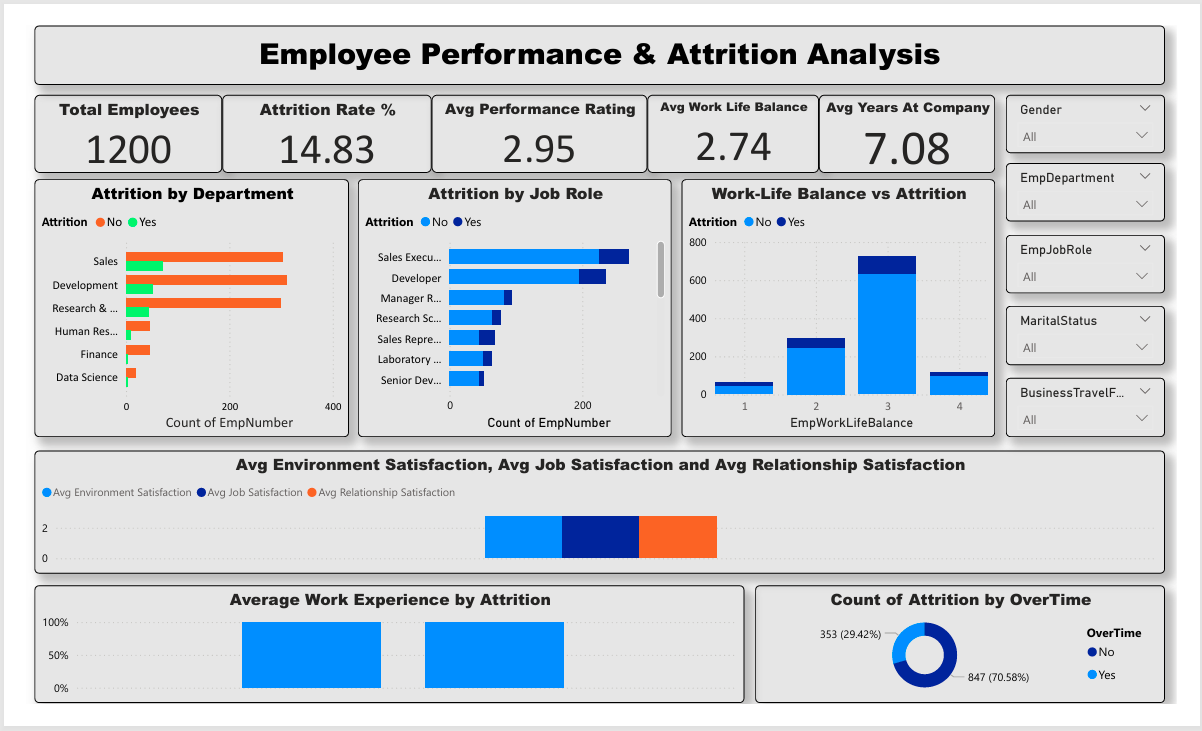

The page's visual inventory and layout, read from the dashboard file:
{"tool":"powerbi","page":{"name":"Page 1","canvas":[1280,755],"ordinal":0},"visuals":[{"type":"card","title":"Total Employees","fields":{"Values":["INX_Future_Inc_Employee_Perform.Total Employees"]},"box":[9,77.1,209.5,87.4],"z":0},{"type":"card","title":"Attrition Rate %","fields":{"Values":["INX_Future_Inc_Employee_Perform.Attrition Rate (%)"]},"box":[218.5,77.1,232.6,87.4],"z":1000},{"type":"card","title":"Avg Performance  Rating","fields":{"Values":["INX_Future_Inc_Employee_Perform.Avg Performance Rating"]},"box":[451.1,77.1,240.3,87.4],"z":2000},{"type":"card","title":"Avg Work Life Balance","fields":{"Values":["INX_Future_Inc_Employee_Perform.Avg Work-Life Balance"]},"box":[691.4,77.1,190.2,87.4],"z":3000},{"type":"card","title":"Avg Years At Company","fields":{"Values":["INX_Future_Inc_Employee_Perform.Avg Years at Company"]},"box":[881.6,77.1,196.6,87.4],"z":4000},{"type":"clusteredBarChart","title":"Attrition by Department","fields":{"Series":["INX_Future_Inc_Employee_Perform.Attrition"],"Y":["CountNonNull(INX_Future_Inc_Employee_Perform.EmpNumber)"],"Category":["INX_Future_Inc_Employee_Perform.EmpDepartment"]},"box":[9,170.9,350,286.6],"z":5000},{"type":"barChart","title":"Attrition by Job Role","fields":{"Category":["INX_Future_Inc_Employee_Perform.EmpJobRole"],"Y":["CountNonNull(INX_Future_Inc_Employee_Perform.EmpNumber)"],"Series":["INX_Future_Inc_Employee_Perform.Attrition"]},"box":[368.8,170.9,349.6,286.6],"z":6000},{"type":"columnChart","title":"Work-Life Balance vs Attrition","fields":{"Category":["INX_Future_Inc_Employee_Perform.EmpWorkLifeBalance"],"Y":["CountNonNull(INX_Future_Inc_Employee_Perform.EmpNumber)"],"Series":["INX_Future_Inc_Employee_Perform.Attrition"]},"box":[728.7,170.9,349.6,286.6],"z":7000},{"type":"donutChart","fields":{"Y":["CountNonNull(INX_Future_Inc_Employee_Perform.Attrition)"],"Category":["INX_Future_Inc_Employee_Perform.OverTime"]},"box":[810.9,623.3,456.2,131.1],"z":8000},{"type":"clusteredColumnChart","fields":{"Y":["INX_Future_Inc_Employee_Perform.Avg Environment Satisfaction","INX_Future_Inc_Employee_Perform.Avg Job Satisfaction","INX_Future_Inc_Employee_Perform.Avg Relationship Satisfaction"]},"box":[9,472.9,1258.2,137.5],"z":9000},{"type":"hundredPercentStackedColumnChart","title":"Average Work Experience by Attrition","fields":{"Y":["Sum(INX_Future_Inc_Employee_Perform.TotalWorkExperienceInYears)"],"Category":["INX_Future_Inc_Employee_Perform.Attrition"]},"box":[9,623.3,790.4,131.1],"z":10000},{"type":"slicer","fields":{"Values":["INX_Future_Inc_Employee_Perform.Gender"]},"box":[1089.8,77.1,177.3,65],"z":11000},{"type":"slicer","fields":{"Values":["INX_Future_Inc_Employee_Perform.EmpDepartment"]},"box":[1089.8,152.9,177.3,65.5],"z":12000},{"type":"slicer","fields":{"Values":["INX_Future_Inc_Employee_Perform.EmpJobRole"]},"box":[1089.8,232.6,177.3,65.5],"z":13000},{"type":"slicer","fields":{"Values":["INX_Future_Inc_Employee_Perform.MaritalStatus"]},"box":[1089.8,312.3,177.3,65.5],"z":14000},{"type":"slicer","fields":{"Values":["INX_Future_Inc_Employee_Perform.BusinessTravelFrequency"]},"box":[1089.8,392,177.3,65.5],"z":15000},{"type":"textbox","box":[9,0,1258.2,65.5],"z":15001}]}

Visuals, with their boxes in screenshot pixels (x1, y1, x2, y2):
"Total Employees" card: Rect(33, 94, 220, 172)
"Attrition Rate %" card: Rect(220, 94, 428, 172)
"Avg Performance  Rating" card: Rect(428, 94, 643, 172)
"Avg Work Life Balance" card: Rect(643, 94, 813, 172)
"Avg Years At Company" card: Rect(813, 94, 988, 172)
"Attrition by Department" clusteredBarChart: Rect(33, 178, 346, 434)
"Attrition by Job Role" barChart: Rect(354, 178, 667, 434)
"Work-Life Balance vs Attrition" columnChart: Rect(676, 178, 988, 434)
donutChart - CountNonNull(INX_Future_Inc_Employee_Perform.Attrition) x INX_Future_Inc_Employee_Perform.OverTime: Rect(749, 582, 1157, 699)
clusteredColumnChart - INX_Future_Inc_Employee_Perform.Avg Environment Satisfaction x INX_Future_Inc_Employee_Perform.Avg Job Satisfaction: Rect(33, 447, 1157, 570)
"Average Work Experience by Attrition" hundredPercentStackedColumnChart: Rect(33, 582, 739, 699)
slicer - INX_Future_Inc_Employee_Perform.Gender: Rect(999, 94, 1157, 152)
slicer - INX_Future_Inc_Employee_Perform.EmpDepartment: Rect(999, 162, 1157, 220)
slicer - INX_Future_Inc_Employee_Perform.EmpJobRole: Rect(999, 233, 1157, 291)
slicer - INX_Future_Inc_Employee_Perform.MaritalStatus: Rect(999, 304, 1157, 363)
slicer - INX_Future_Inc_Employee_Perform.BusinessTravelFrequency: Rect(999, 375, 1157, 434)
textbox: Rect(33, 25, 1157, 84)
